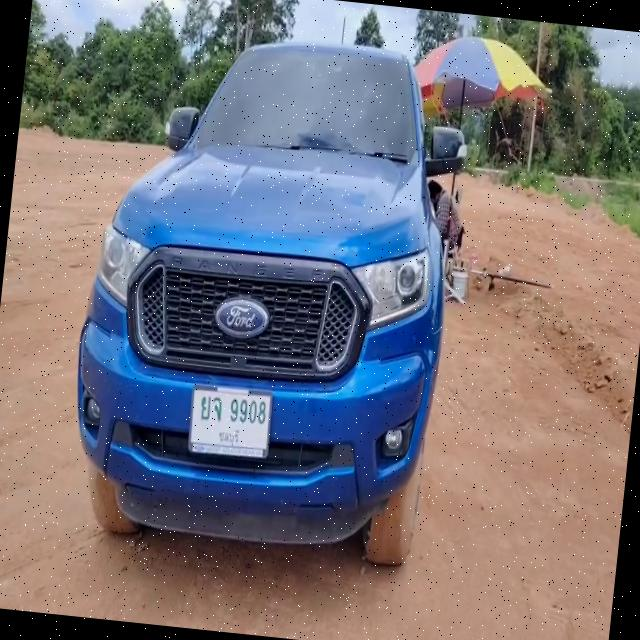Digit: (228, 391, 268, 428)
Licenseplate: (186, 384, 274, 459)
Provincename: (215, 425, 240, 446)
Thaichar: (199, 390, 223, 424)
